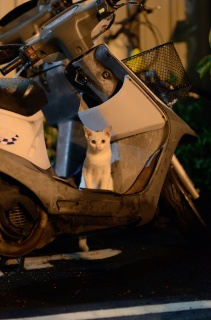Cat: (81, 125, 115, 190)
